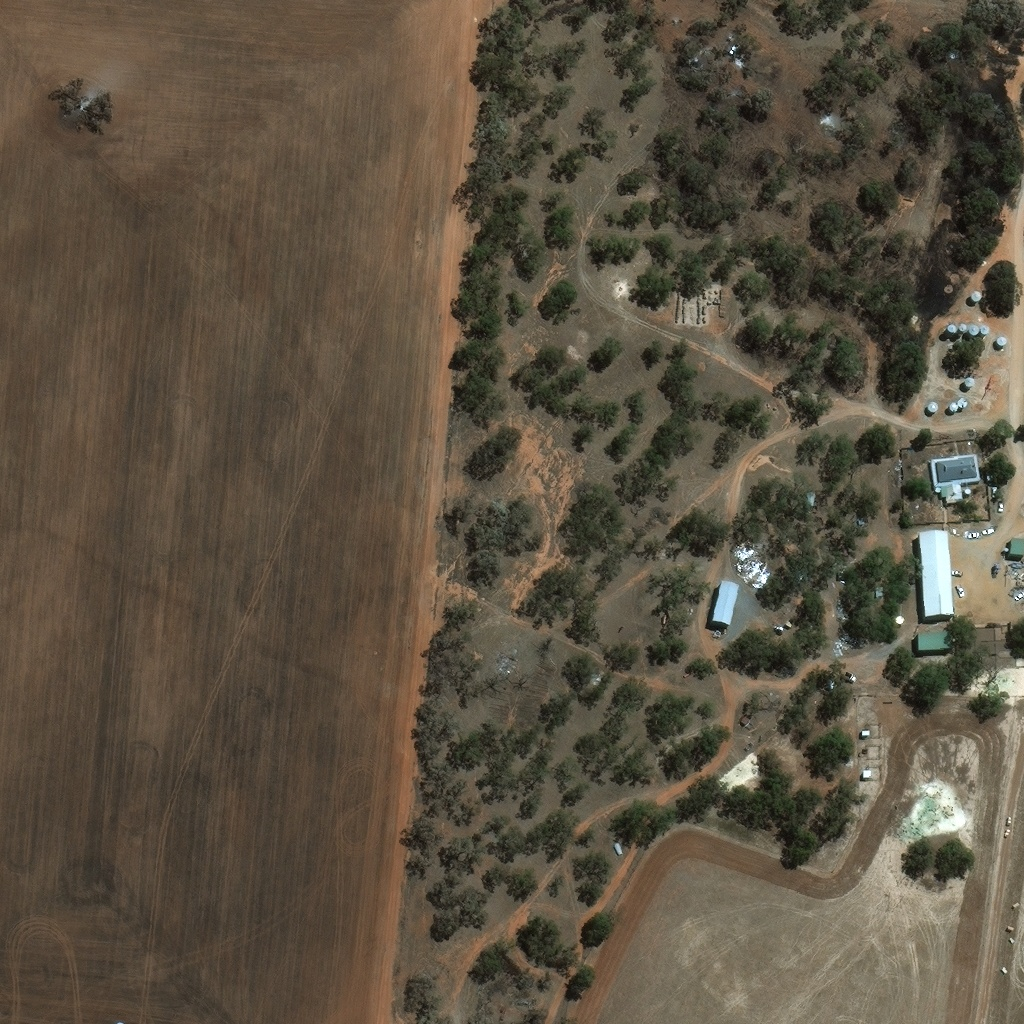0 no-damage: (917, 532, 954, 620), (931, 451, 981, 503), (973, 624, 1017, 661), (708, 582, 741, 630), (928, 396, 970, 412), (917, 633, 952, 651), (945, 325, 989, 336), (1004, 538, 1023, 557), (893, 612, 907, 625), (613, 841, 624, 854), (996, 335, 1009, 345), (862, 770, 871, 778), (860, 729, 870, 736), (842, 671, 850, 678), (965, 488, 972, 494)
4 un-classified: (978, 382, 991, 394), (976, 396, 987, 407), (1013, 559, 1023, 565)
